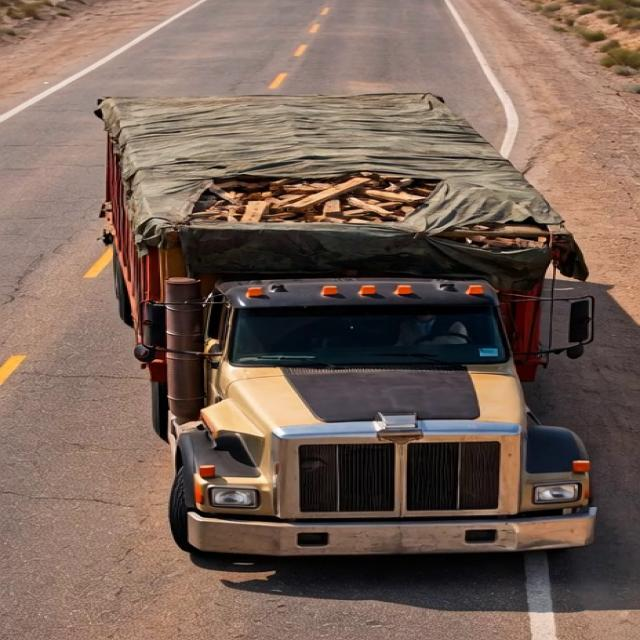Box: (76, 91, 576, 248)
Truck: (79, 51, 614, 566)
